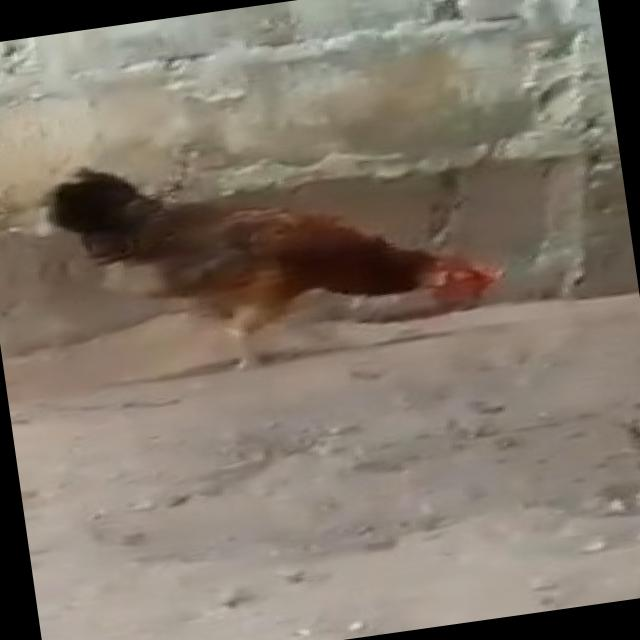stand bath: (39, 101, 506, 406)
